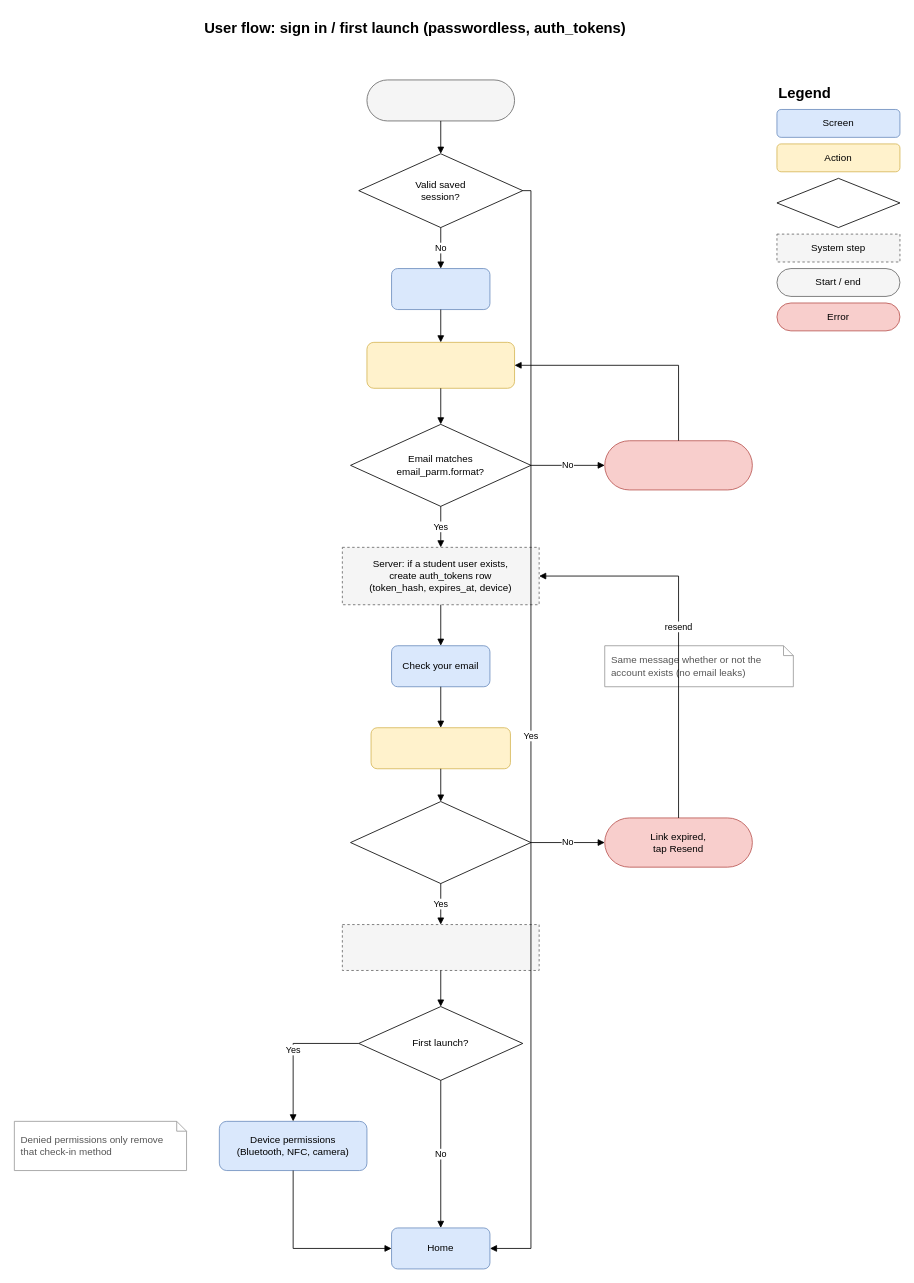
This 914x1283 diagram has some shape labels left out. Each missing label, with the centre of its shape:
"App opened" belongs at pixel 440 100.
"Decision" belongs at pixel 838 203.
"Enter institutional email, tap Send link" belongs at pixel 440 365.
"Open link / enter code" belongs at pixel 440 748.
"Server: set auth_tokens.used = true, start app session" belongs at pixel 440 947.
"Sign In" belongs at pixel 440 289.
"Token valid? not used, not expired" belongs at pixel 440 842.
"Use your institutional email" belongs at pixel 678 465.
